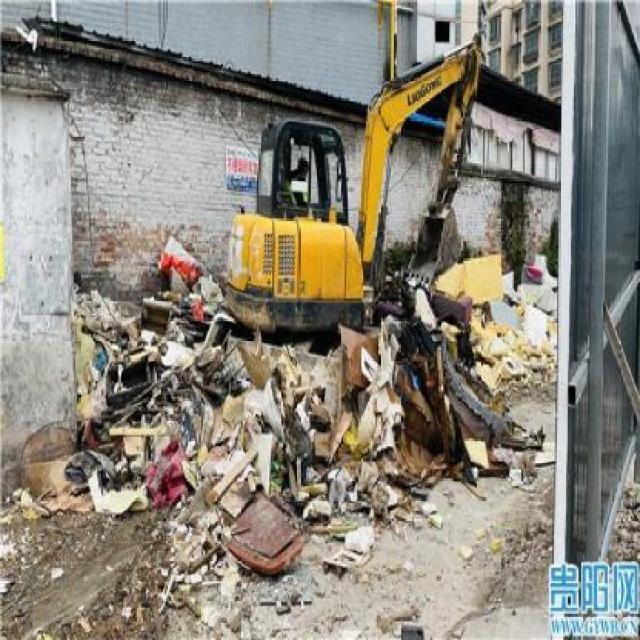garbage: (71, 291, 536, 532), (218, 474, 387, 611), (465, 234, 554, 403), (22, 419, 146, 529), (137, 203, 223, 353)
